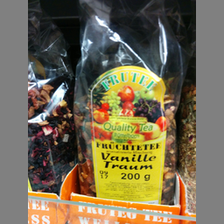tea: (70, 2, 191, 204), (29, 2, 73, 193)
